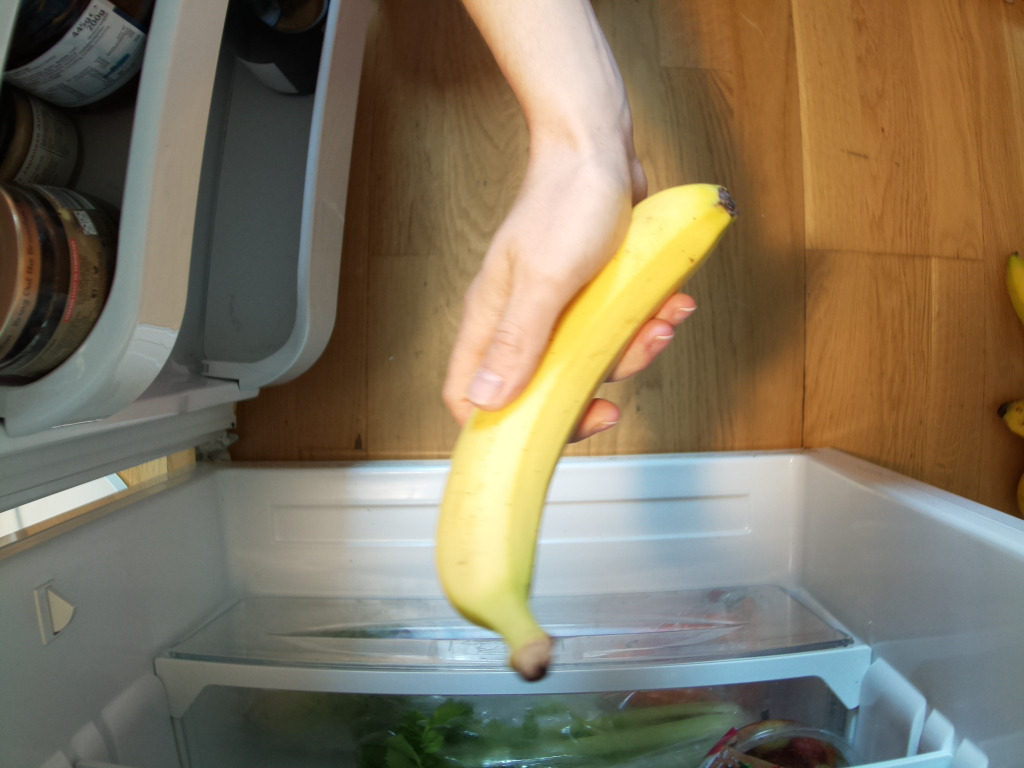banana: (433, 170, 729, 682)
